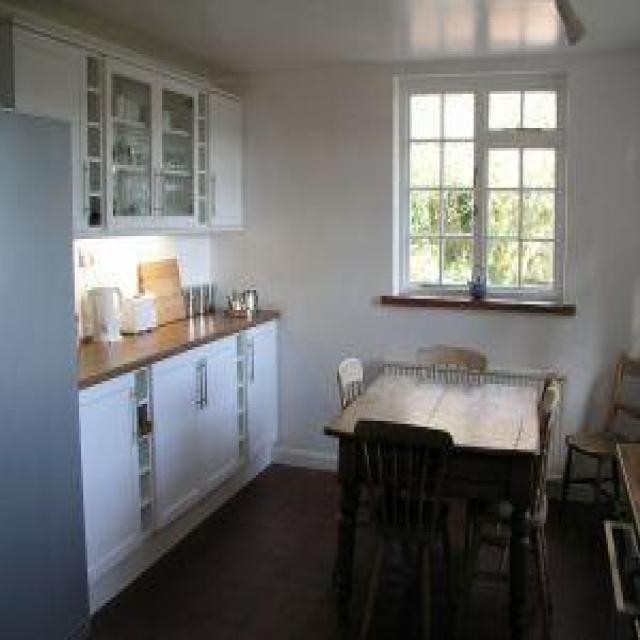door: (0, 105, 90, 637)
indoor-plant: (0, 0, 638, 637)
table: (322, 364, 551, 637)
window: (390, 68, 568, 304)
